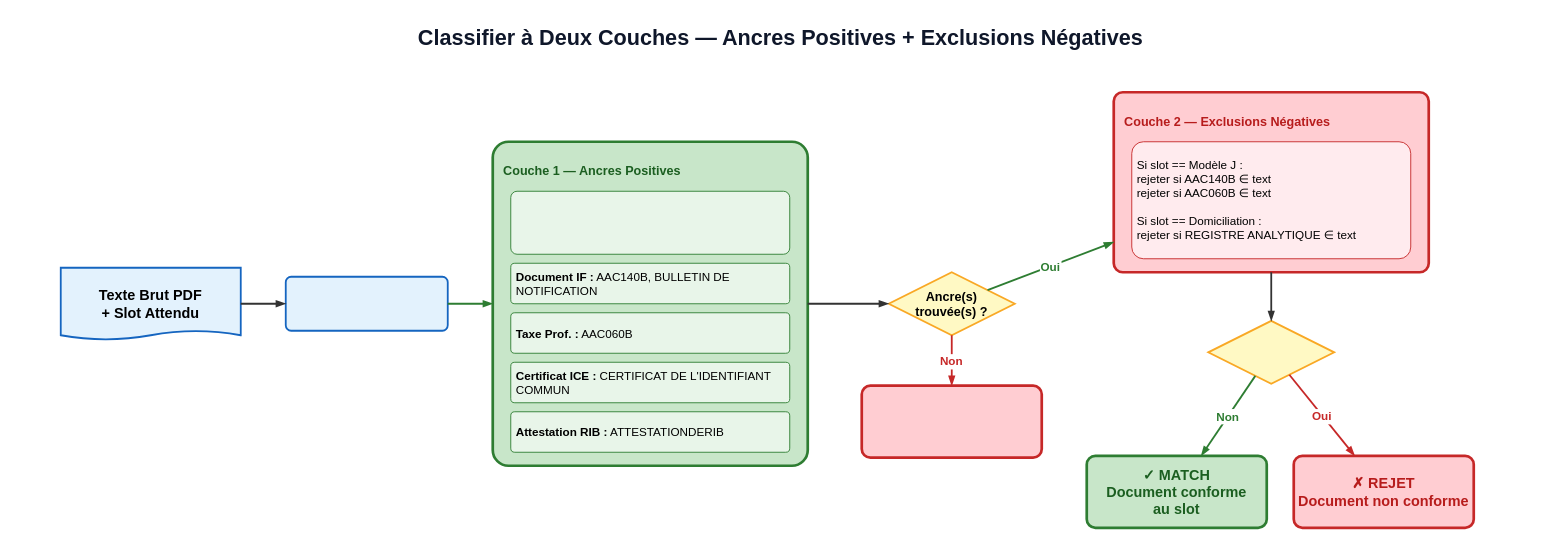
Some shapes in this 1561 by 545 pixel diagram are drawn without their labels. Here are the shapes that lost their labels. From the top down, the centre of each, then its label:
[650,222]: Modèle J : REGISTRE ANALYTIQUE INSCRIPTIONS PORTES CODE DEMANDE
[366,303]: Normalisation text.upper()
[1271,352]: Exclusion trouvée ?
[951,421]: ✗ REJET Aucune ancre
